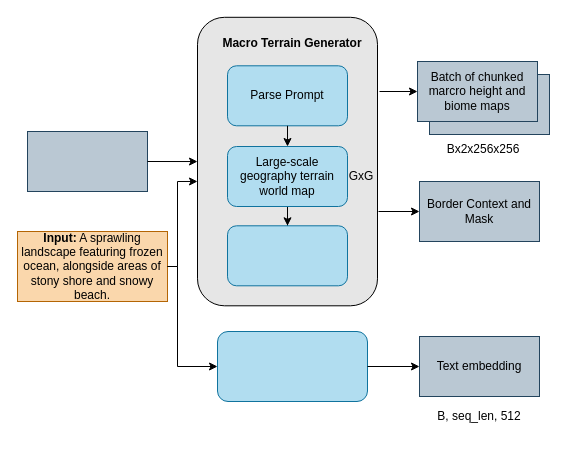
Image size: 567x449. Some labels were removed from this diagram. Each missing label, with the box of its shape:
G: optional map size: (26, 130, 148, 192)
T5 Text Encoder: (216, 330, 368, 402)
World map chunk grid: (226, 225, 348, 286)
